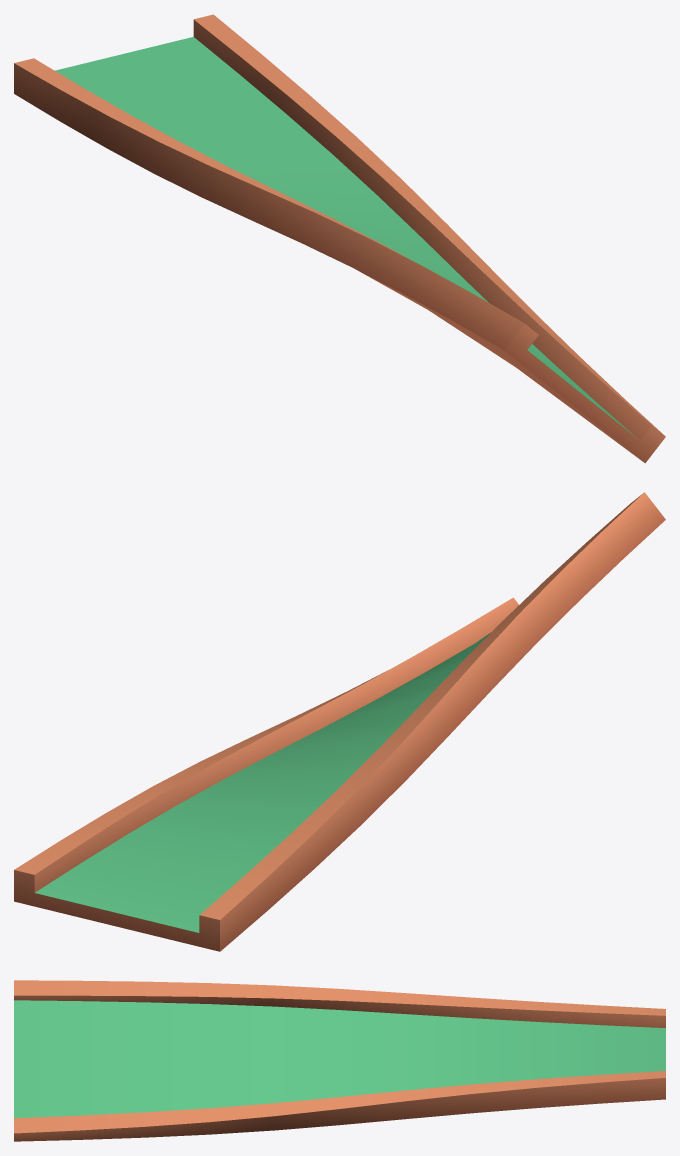
File: spline-default-straight-skew-left.glb
3 views of the same model, one above another, from view 1: azimuth 30°, elevation 25°; view 2: azimuth 150°, elevation 25°; view 3: azimuth 270°, elevation 25° (orthographic). The views are drawn at different scales.
Parts seen in each view (by area): view 1: spline-default-straight-skew-left; view 2: spline-default-straight-skew-left; view 3: spline-default-straight-skew-left.
Boxes of the visible parts, box(x1,y1,x2,y2) form: spline-default-straight-skew-left: box(14, 14, 665, 463); spline-default-straight-skew-left: box(14, 492, 665, 951); spline-default-straight-skew-left: box(14, 980, 665, 1141).
Bounding box in the file's own units: 1.02 × 0.8108 × 4.
1 material, 1 textured.
